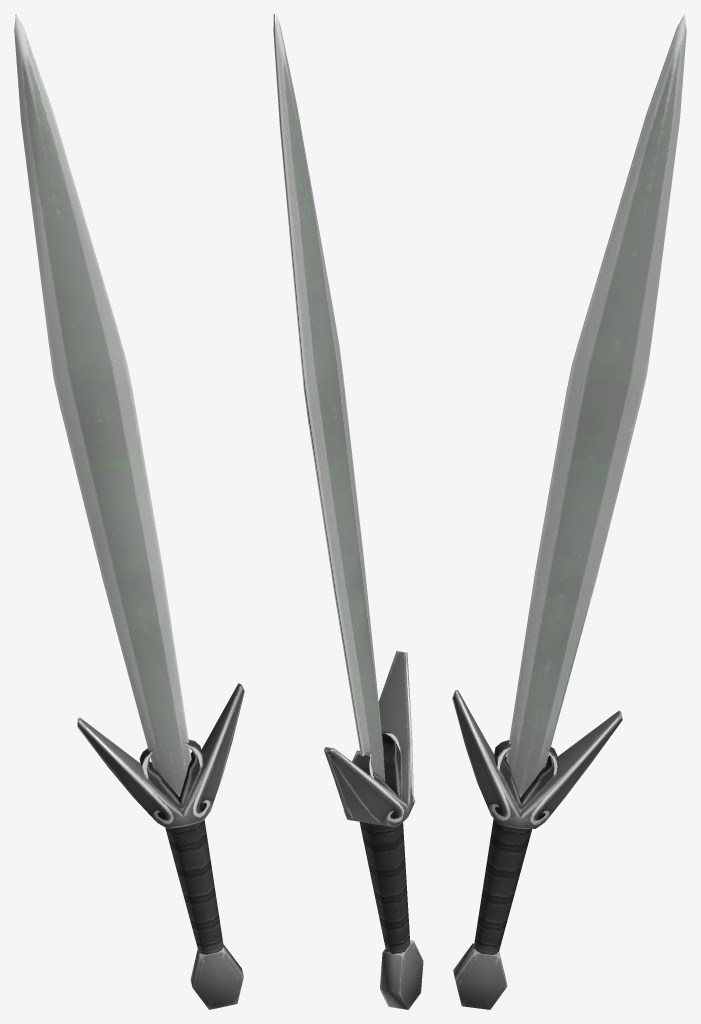
File: weapon-base.glb
The picture shows the model from 3 angles, left to right: view 1: azimuth 90°, elevation 25°; view 2: azimuth 150°, elevation 25°; view 3: azimuth 270°, elevation 25°; orthographic projection. The views are drawn at different scales.
Bounding box in the file's own units: 0.0942 × 1.61 × 0.3427.
Materials: 1 (1 with a texture image).
